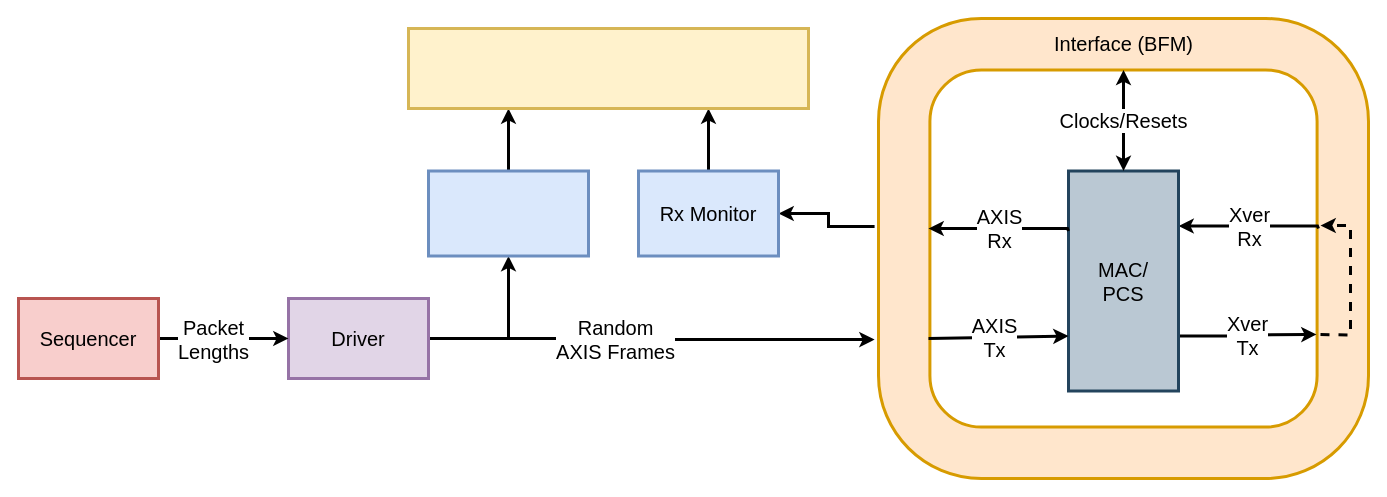
The diagram is 1387 pixels wide and 497 high, and some of its shapes have lost their labels. The shapes that lost their labels are listed below. From the top down, each one's centre as x and y in pixels, then its label:
(608,68): Scoreboard
(508,213): Tx Monitor
